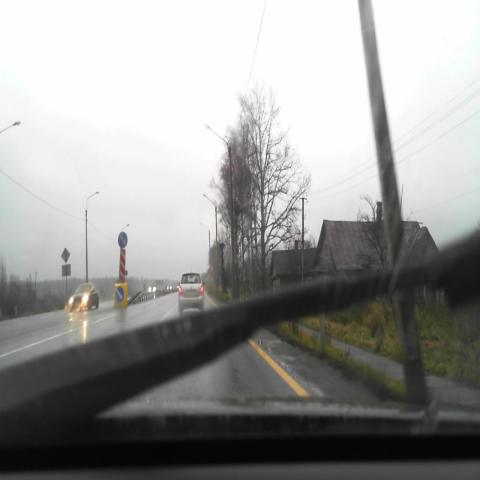4_2_1: (118, 231, 128, 248), (116, 286, 124, 303)
